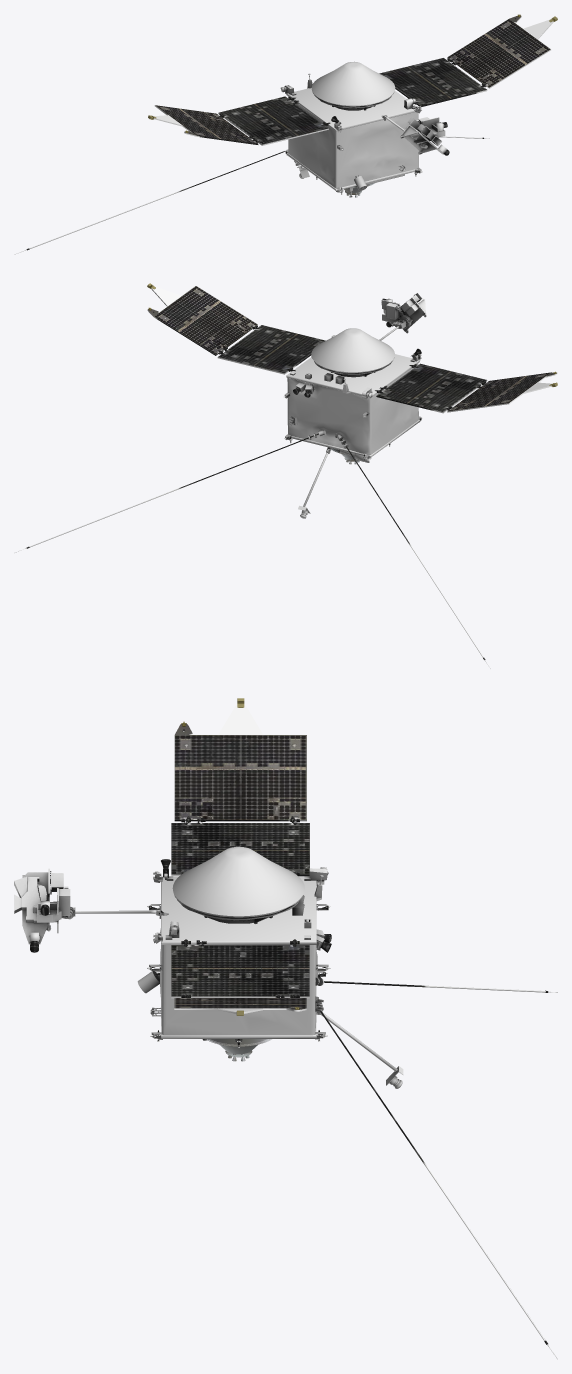
The model's file is maven_orbiter.glb.
The picture shows the model from 3 angles, top to bottom: view 1: azimuth 30°, elevation 25°; view 2: azimuth 150°, elevation 25°; view 3: azimuth 270°, elevation 25°; orthographic projection. The views are drawn at different scales.
Parts seen in each view (by area): view 1: shiny_panel, BUS, foil_silver, tex_01, parts, dish_frame; view 2: shiny_panel, BUS, tex_01, foil_silver, parts; view 3: shiny_panel, BUS, foil_silver, parts, tex_01.
Part boxes in pixels (x1=…): shiny_panel: x1=155, y1=19, x2=550, y2=144; BUS: x1=286, y1=88, x2=446, y2=190; foil_silver: x1=311, y1=61, x2=395, y2=105; tex_01: x1=14, y1=15, x2=553, y2=254; parts: x1=148, y1=14, x2=557, y2=197; dish_frame: x1=312, y1=91, x2=394, y2=110; shiny_panel: x1=154, y1=286, x2=550, y2=411; BUS: x1=286, y1=298, x2=419, y2=506; tex_01: x1=14, y1=286, x2=557, y2=668; foil_silver: x1=311, y1=328, x2=394, y2=372; parts: x1=147, y1=283, x2=557, y2=518; shiny_panel: x1=171, y1=735, x2=309, y2=1008; BUS: x1=30, y1=876, x2=397, y2=1071; foil_silver: x1=172, y1=846, x2=304, y2=916; parts: x1=14, y1=698, x2=403, y2=1088; tex_01: x1=30, y1=705, x2=557, y2=1359.
Bounding box in the file's own units: 13.13 × 5.42 × 8.22.
10 materials, 8 textured.
